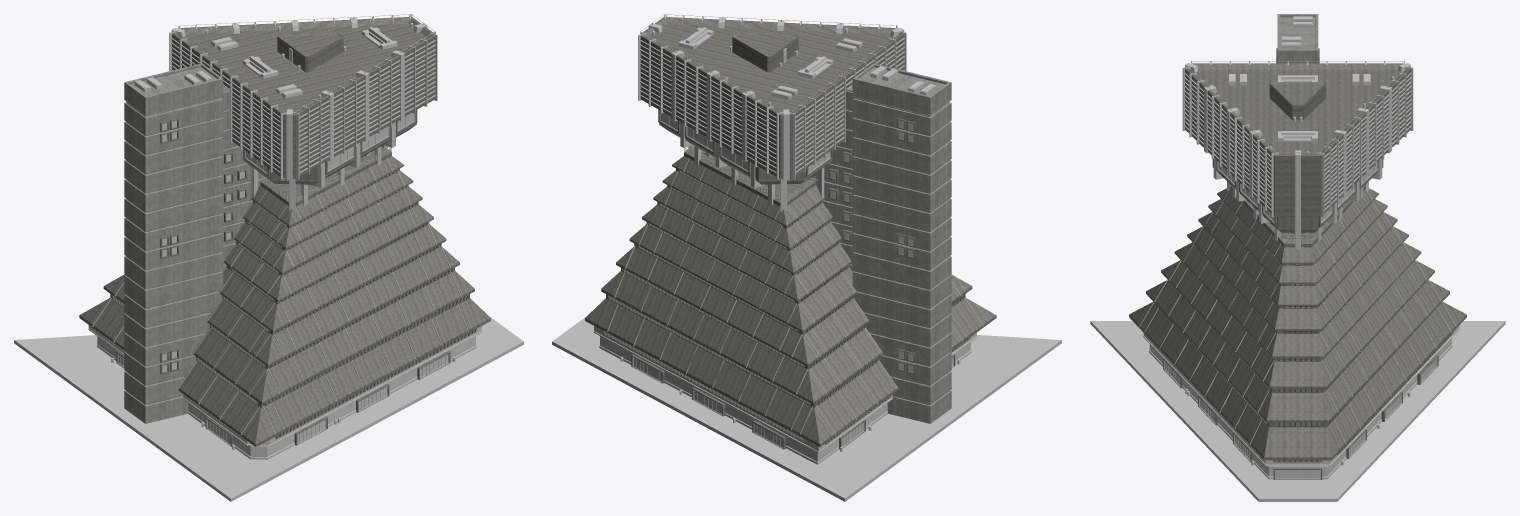
The model's file is Kitbash3D_Brutalist_Building_Large07.fbx.
The picture shows the model from 3 angles, left to right: view 1: azimuth 30°, elevation 25°; view 2: azimuth 150°, elevation 25°; view 3: azimuth 270°, elevation 25°; orthographic projection. The views are drawn at different scales.
Parts seen in each view (by area): view 1: XL_Bldg_G_Bldg_Main2, XL_Bldg_G_Bldg_Mid, XL_Bldg_G_Sidewalk, XL_Bldg_G_Support_Lattice, XL_Bldg_G_Mull_Wall_SQ_Pod, XL_Bldg_G_WindowsGlass, XL_Bldg_G_Bldg_Base, XL_Bldg_G_bLINE_ALL_Grp, XL_Bldg_G_Props_Details, XL_Bldg_G_OfficePods, XL_Bldg_G_Rails_All_Grp, XL_Bldg_G_Mullions; view 2: XL_Bldg_G_Bldg_Main2, XL_Bldg_G_Bldg_Mid, XL_Bldg_G_Sidewalk, XL_Bldg_G_Support_Lattice, XL_Bldg_G_Mull_Wall_SQ_Pod, XL_Bldg_G_WindowsGlass, XL_Bldg_G_Bldg_Base, XL_Bldg_G_bLINE_ALL_Grp, XL_Bldg_G_Props_Details, XL_Bldg_G_OfficePods, XL_Bldg_G_Rails_All_Grp, XL_Bldg_G_Mullions; view 3: XL_Bldg_G_Bldg_Main2, XL_Bldg_G_Sidewalk, XL_Bldg_G_Support_Lattice, XL_Bldg_G_bLINE_ALL_Grp, XL_Bldg_G_Bldg_Base, XL_Bldg_G_Mull_Wall_SQ_Pod, XL_Bldg_G_WindowsGlass, XL_Bldg_G_Bldg_Mid, XL_Bldg_G_Props_Details, XL_Bldg_G_OfficePods, XL_Bldg_G_Mullions, XL_Bldg_G_Rails_All_Grp.
Part boxes in pixels (left/top/right/bottom): XL_Bldg_G_Bldg_Main2: left=79, top=17, right=490, bottom=446; XL_Bldg_G_Bldg_Mid: left=124, top=63, right=372, bottom=423; XL_Bldg_G_Sidewalk: left=14, top=316, right=523, bottom=501; XL_Bldg_G_Support_Lattice: left=169, top=15, right=437, bottom=212; XL_Bldg_G_Mull_Wall_SQ_Pod: left=93, top=118, right=476, bottom=439; XL_Bldg_G_WindowsGlass: left=95, top=113, right=475, bottom=444; XL_Bldg_G_Bldg_Base: left=88, top=325, right=482, bottom=459; XL_Bldg_G_bLINE_ALL_Grp: left=92, top=158, right=468, bottom=435; XL_Bldg_G_Props_Details: left=134, top=27, right=397, bottom=98; XL_Bldg_G_OfficePods: left=116, top=110, right=450, bottom=446; XL_Bldg_G_Rails_All_Grp: left=172, top=14, right=435, bottom=201; XL_Bldg_G_Mullions: left=117, top=113, right=449, bottom=445; XL_Bldg_G_Bldg_Main2: left=585, top=17, right=996, bottom=446; XL_Bldg_G_Bldg_Mid: left=703, top=63, right=951, bottom=423; XL_Bldg_G_Sidewalk: left=552, top=316, right=1061, bottom=501; XL_Bldg_G_Support_Lattice: left=638, top=15, right=906, bottom=212; XL_Bldg_G_Mull_Wall_SQ_Pod: left=603, top=118, right=970, bottom=444; XL_Bldg_G_WindowsGlass: left=605, top=113, right=968, bottom=447; XL_Bldg_G_Bldg_Base: left=593, top=326, right=977, bottom=464; XL_Bldg_G_bLINE_ALL_Grp: left=607, top=158, right=983, bottom=435; XL_Bldg_G_Props_Details: left=678, top=27, right=936, bottom=99; XL_Bldg_G_OfficePods: left=631, top=109, right=955, bottom=449; XL_Bldg_G_Rails_All_Grp: left=640, top=14, right=903, bottom=201; XL_Bldg_G_Mullions: left=632, top=113, right=953, bottom=448; XL_Bldg_G_Bldg_Main2: left=1129, top=63, right=1466, bottom=460; XL_Bldg_G_Sidewalk: left=1090, top=321, right=1505, bottom=501; XL_Bldg_G_Support_Lattice: left=1182, top=61, right=1413, bottom=248; XL_Bldg_G_bLINE_ALL_Grp: left=1139, top=189, right=1456, bottom=444; XL_Bldg_G_Bldg_Base: left=1143, top=325, right=1459, bottom=479; XL_Bldg_G_Mull_Wall_SQ_Pod: left=1145, top=48, right=1452, bottom=462; XL_Bldg_G_WindowsGlass: left=1165, top=162, right=1436, bottom=478; XL_Bldg_G_Bldg_Mid: left=1277, top=14, right=1318, bottom=235; XL_Bldg_G_Props_Details: left=1229, top=16, right=1370, bottom=141; XL_Bldg_G_OfficePods: left=1163, top=160, right=1438, bottom=479; XL_Bldg_G_Mullions: left=1164, top=161, right=1437, bottom=479; XL_Bldg_G_Rails_All_Grp: left=1185, top=60, right=1409, bottom=243.
Size of the model in its own units: 67.44 by 56.69 by 66.5.
